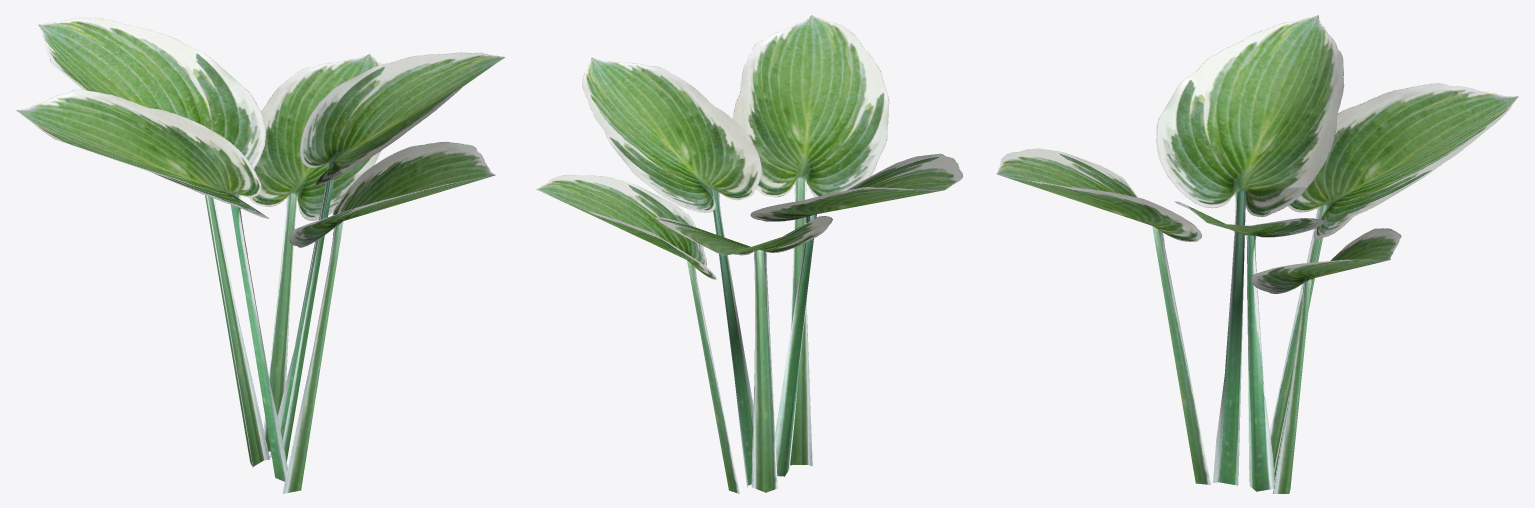
Rendered from plant_small_wg_05E1.fbx.
3 renders of one model, left to right at view 1: azimuth 30°, elevation 25°; view 2: azimuth 150°, elevation 25°; view 3: azimuth 270°, elevation 25°, orthographic. The views are drawn at different scales.
Visible parts, largest first — view 1: plant_small_wg_05E1; view 2: plant_small_wg_05E1; view 3: plant_small_wg_05E1.
Part boxes in pixels (left/top/right/bottom): plant_small_wg_05E1: left=16, top=17, right=505, bottom=493; plant_small_wg_05E1: left=536, top=15, right=962, bottom=493; plant_small_wg_05E1: left=996, top=15, right=1518, bottom=493.
Size of the model in its own units: 45.93 by 39.25 by 50.87.
